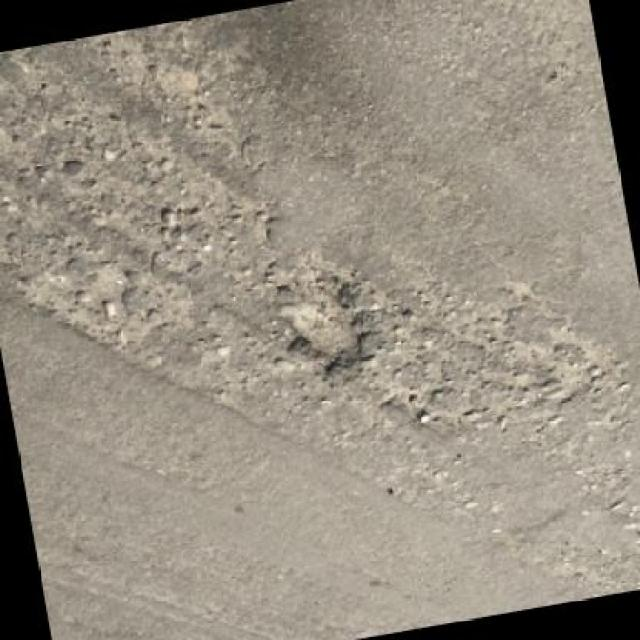pothole1: (268, 262, 372, 381), (379, 374, 446, 435)
